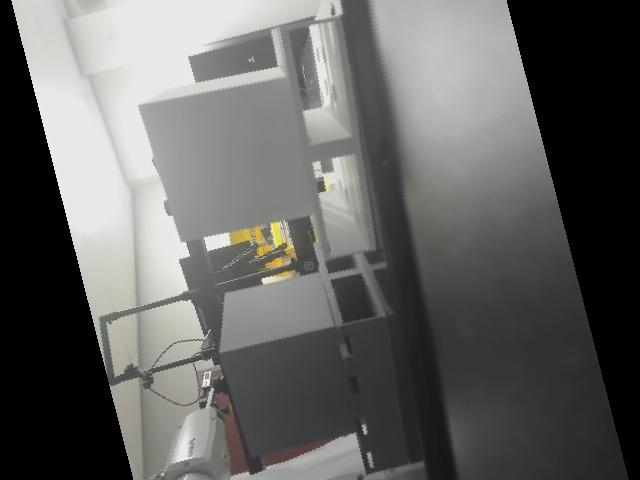grey pallet: (192, 233, 447, 470)
white pallet: (104, 7, 425, 283)
